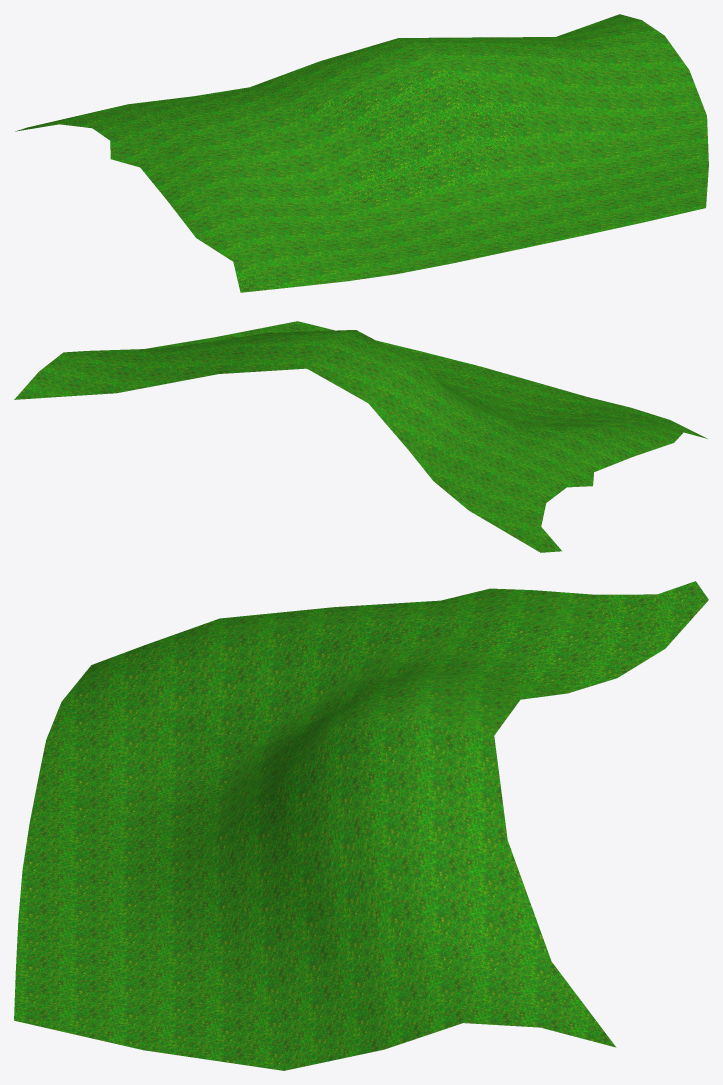
File: HTOWN01_PS05.fbx
3 renders of one model, top to bottom at view 1: azimuth 30°, elevation 25°; view 2: azimuth 150°, elevation 25°; view 3: azimuth 270°, elevation 25°, orthographic. The views are drawn at different scales.
Visible parts, largest first — view 1: HTOWN01_PS05; view 2: HTOWN01_PS05; view 3: HTOWN01_PS05.
Part boxes in pixels (x1,y1,x2,y2): HTOWN01_PS05: [15, 14, 708, 292]; HTOWN01_PS05: [14, 321, 707, 552]; HTOWN01_PS05: [14, 581, 708, 1070].
Size of the model in its own units: 449031 by 82162 by 288761.
1 material, 1 textured.
